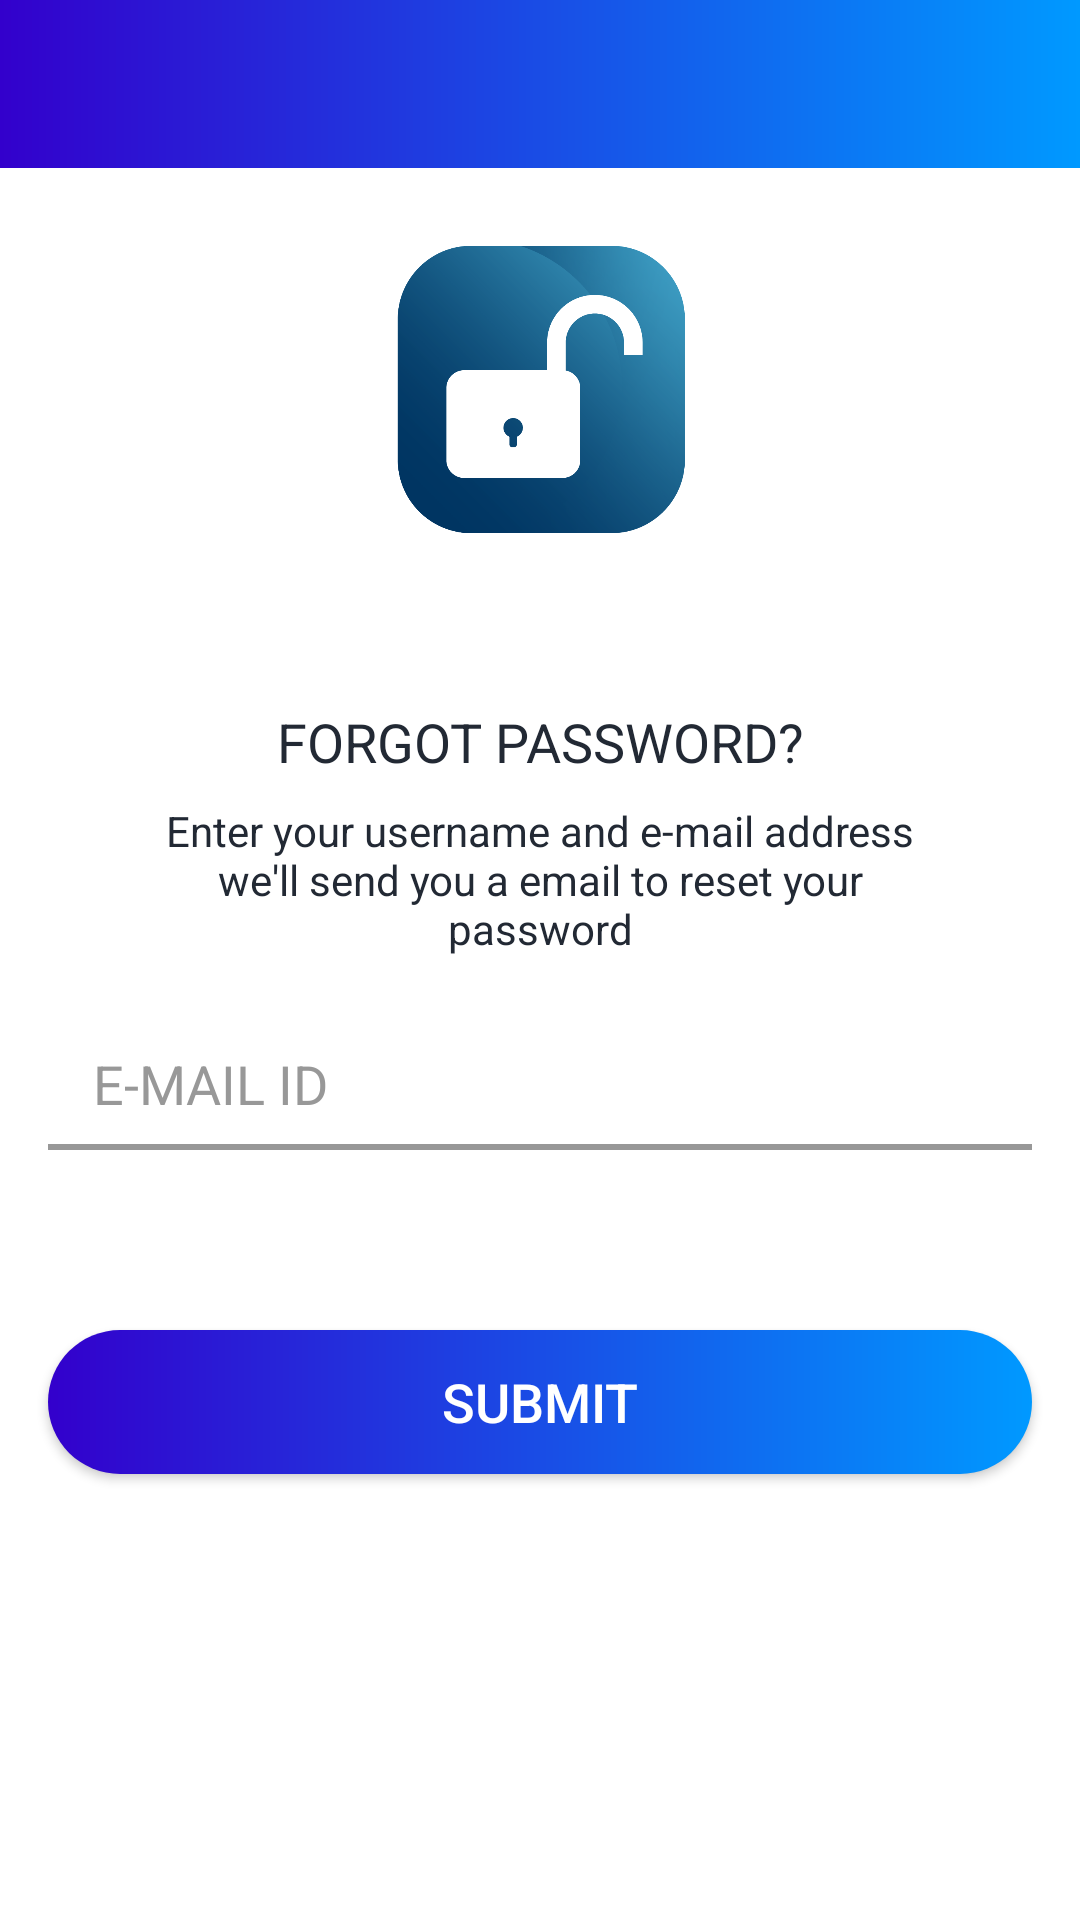

Named icons in this screenshot (1080*1920) and their bounding boxes, (x1, y1, x2, y2):
forget im: (397, 246, 685, 533)
